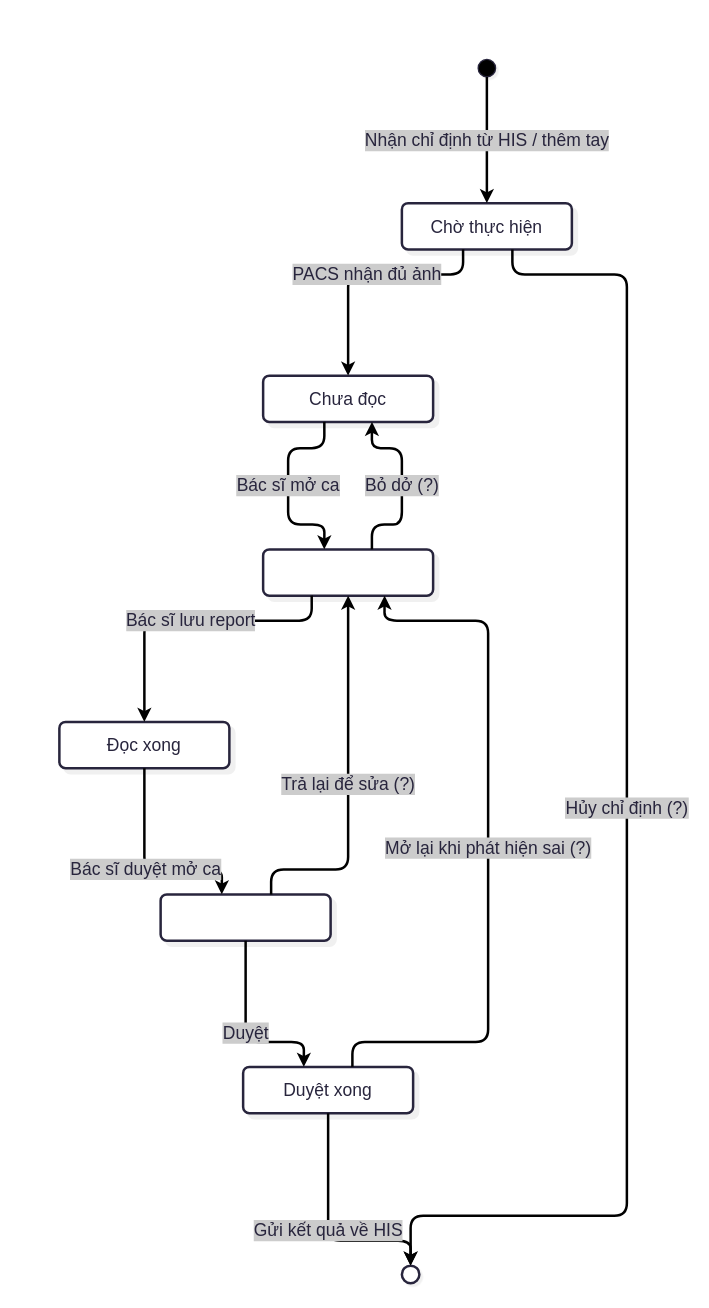
Image size: 709x1308. Some labels were removed from this diagram. The shapes that lost their labels are listed below. From the top down, each one's centre as x and y in pixels, then its label:
(x=350, y=574): Đang đọc
(x=247, y=919): Đang duyệt
